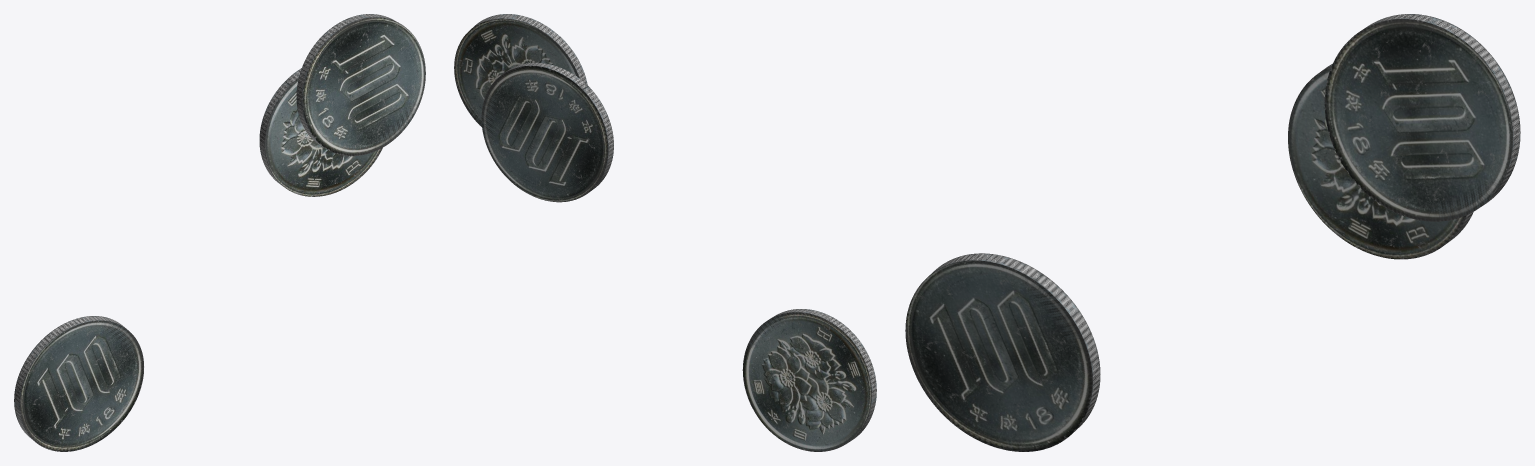
File: 100yen01.glb
The picture shows the model from 3 angles, left to right: view 1: azimuth 30°, elevation 25°; view 2: azimuth 150°, elevation 25°; view 3: azimuth 330°, elevation 25°; orthographic projection. The views are drawn at different scales.
Parts seen in each view (by area): view 1: 100yen.001, 100yen.002, 100yen; view 2: 100yen.002, 100yen, 100yen.001; view 3: 100yen.001, 100yen.002, 100yen.
Part boxes in pixels (x1,y1,x2,y2): 100yen.001: (296, 14, 425, 156); 100yen.002: (14, 316, 143, 451); 100yen: (259, 68, 382, 196); 100yen.002: (742, 309, 876, 451); 100yen: (481, 62, 613, 202); 100yen.001: (454, 14, 587, 126); 100yen.001: (1324, 14, 1520, 221); 100yen.002: (905, 253, 1100, 451); 100yen: (1288, 64, 1473, 259).
Bounding box in the file's own units: 0.0736 × 0.0617 × 0.00479.
3 materials, 3 textured.
